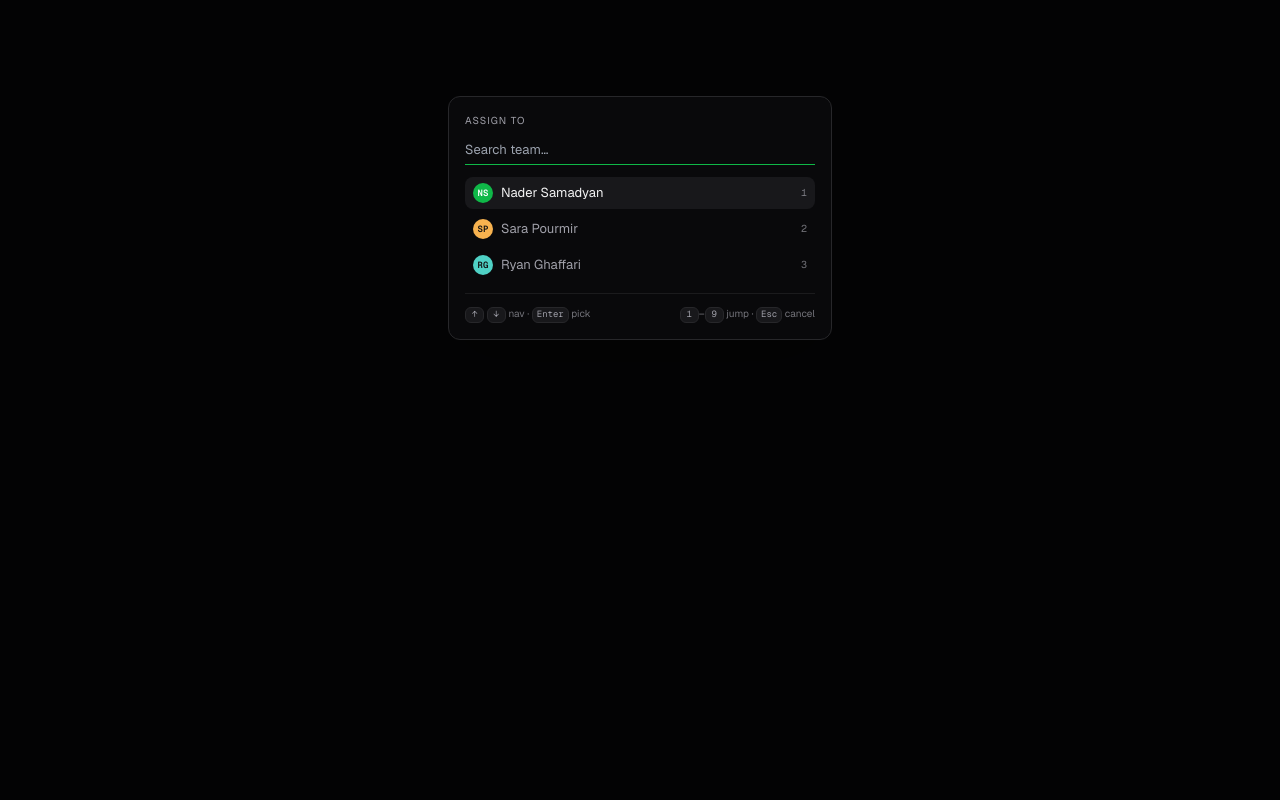
AssigneePickerModal › filters users via the search input
Step 1. Type "sara" into the field with placeholder "Search team…" → (640, 150), box [465,136,815,165]
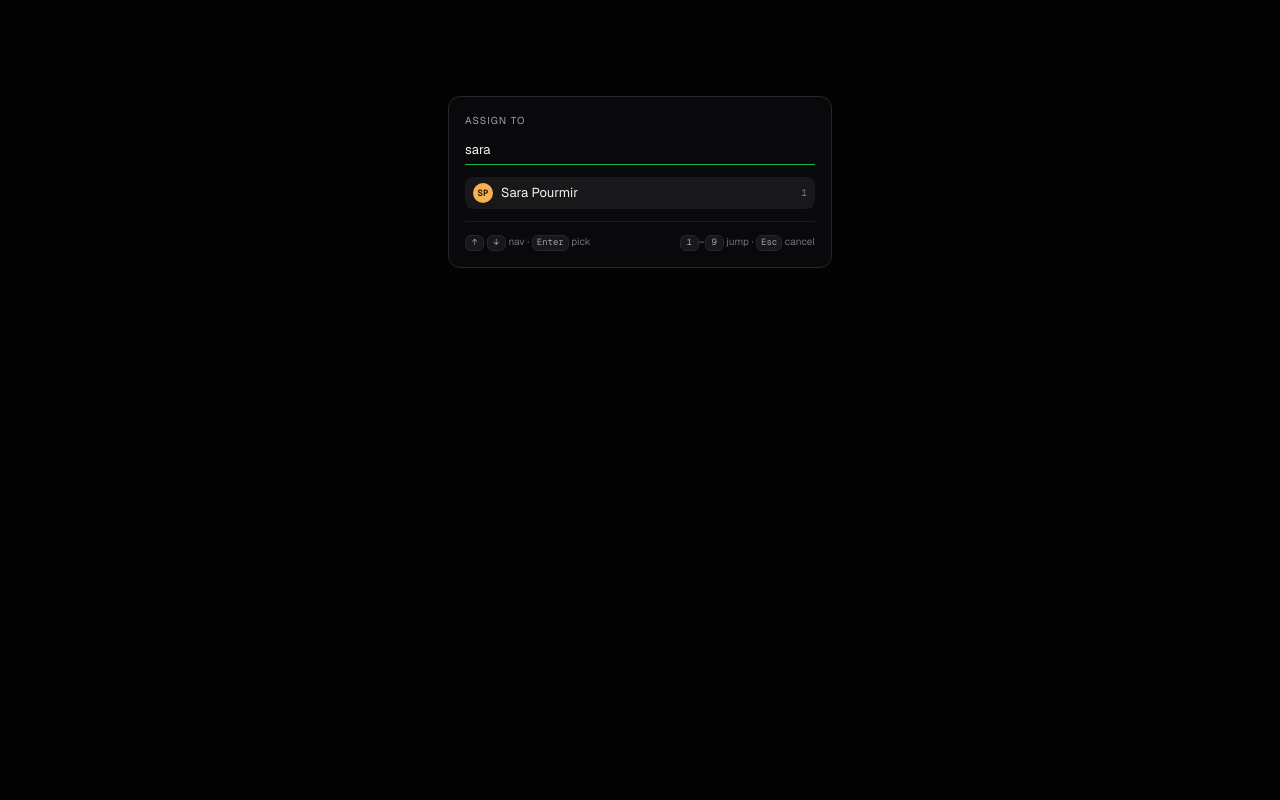
Expected: the text "Sara Pourmir" is shown, [501,183,578,203]
Now the text "Nader Samadyan" is gone
Now the text "Ryan Ghaffari" is gone
